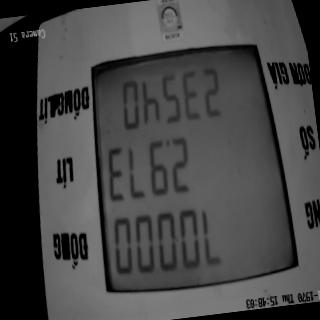screen: (73, 30, 305, 319)
